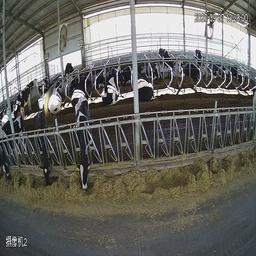cow: (71, 91, 99, 203), (31, 108, 55, 198), (3, 114, 26, 189), (103, 69, 126, 119), (138, 61, 159, 110), (72, 71, 96, 106), (196, 46, 212, 92), (176, 54, 192, 88), (38, 69, 51, 110), (156, 39, 174, 68), (52, 79, 67, 113), (212, 59, 227, 91)
